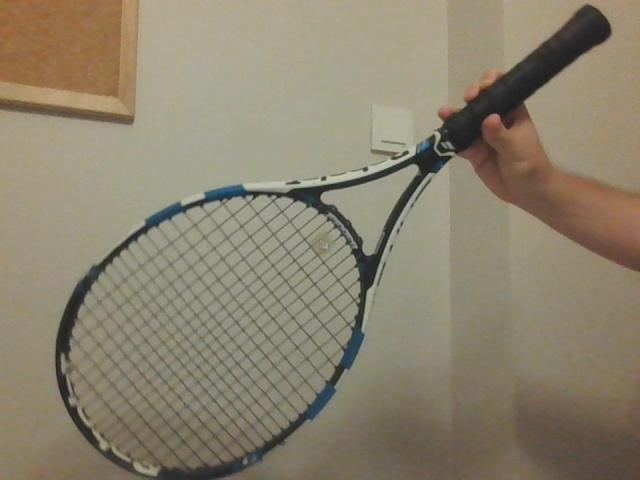Tennis-Racket: (57, 8, 608, 480)
